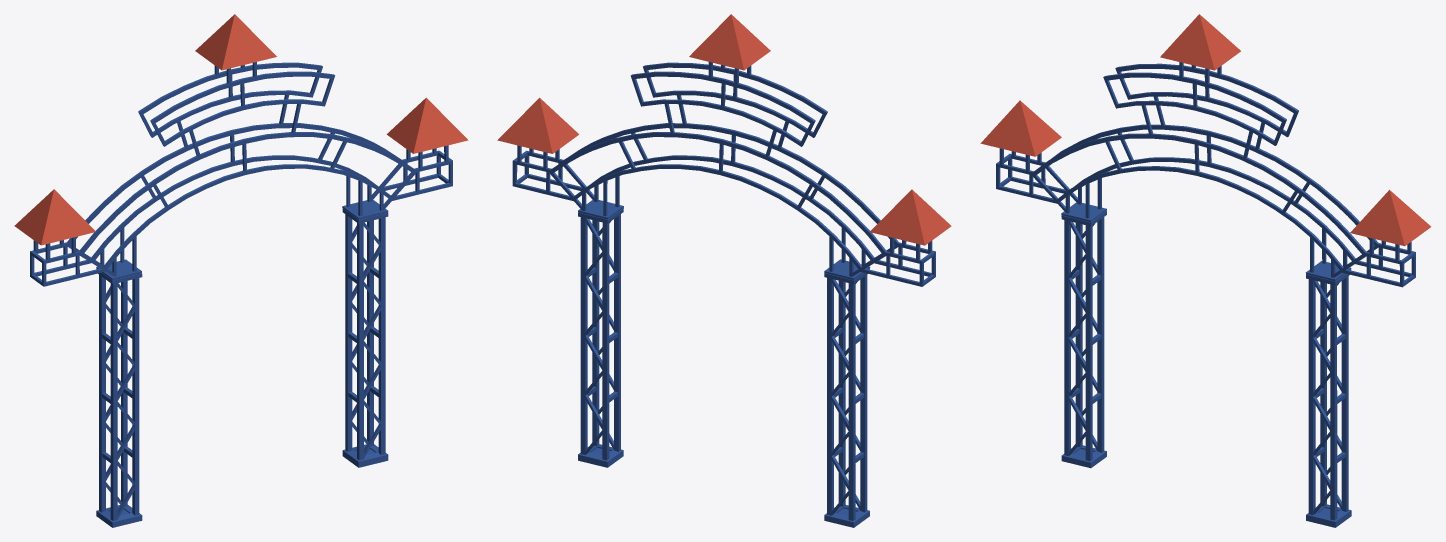
File: Archway.obj
The picture shows the model from 3 angles, left to right: view 1: azimuth 30°, elevation 25°; view 2: azimuth 150°, elevation 25°; view 3: azimuth 330°, elevation 25°; orthographic projection.
Parts seen in each view (by area): view 1: SM_Archway_01; view 2: SM_Archway_01; view 3: SM_Archway_01.
Part boxes in pixels (x1,y1,x2,y2): SM_Archway_01: (14,14,468,527); SM_Archway_01: (497,14,951,527); SM_Archway_01: (980,14,1431,527).
Bounding box in the file's own units: 6.14 × 6.54 × 0.6675.
